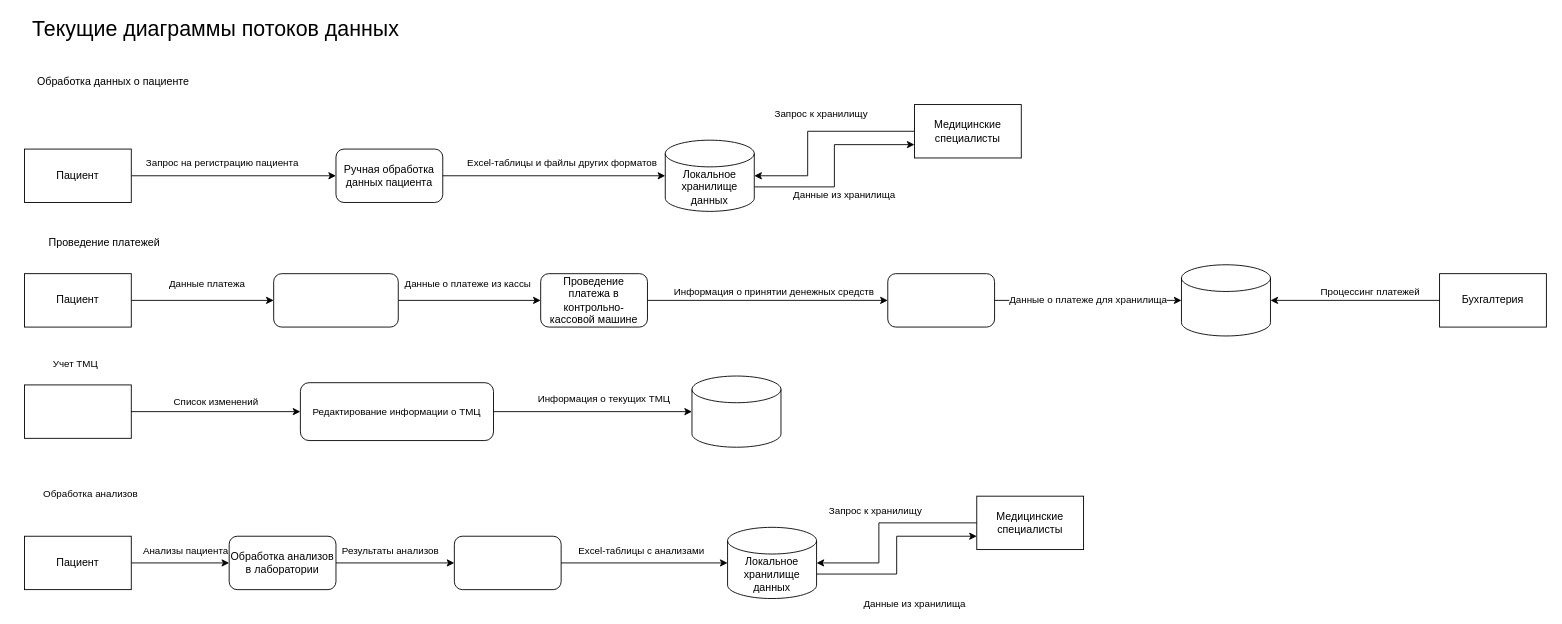
This 1562x624 diagram has some shape labels left out. The box of each missing label's shape, as (x1, y1, x2, y2) in pixels:
1C Бухгалтерия предприятия: (1181, 264, 1270, 336)
1C Торговля и склад: (691, 375, 781, 447)
Обработка платежа в 1С: (887, 273, 995, 327)
Оплата за медицинские услуги: (273, 273, 398, 327)
Ручная обработка анализов: (453, 535, 561, 590)
Сотрудник склада: (24, 384, 131, 438)
